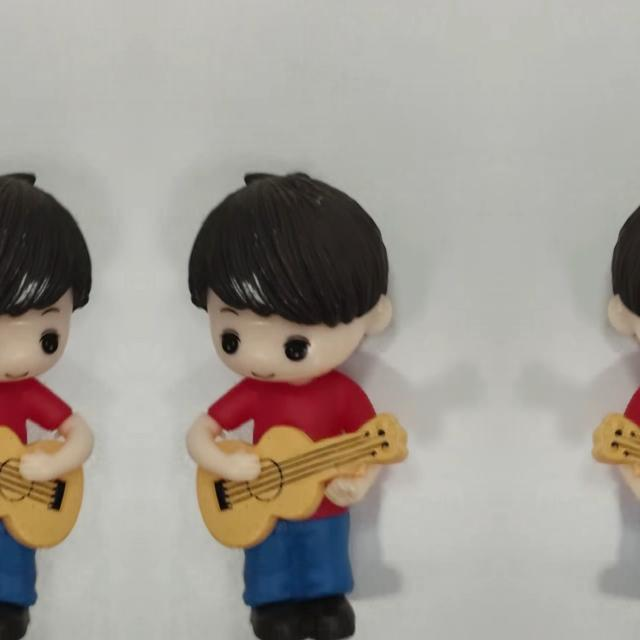man cloth: (202, 375, 394, 519), (0, 375, 77, 519), (606, 375, 640, 519)
man head: (178, 163, 398, 387), (0, 163, 102, 387), (602, 163, 640, 387)
trousers: (233, 509, 361, 636), (0, 509, 47, 636), (639, 509, 640, 636)
